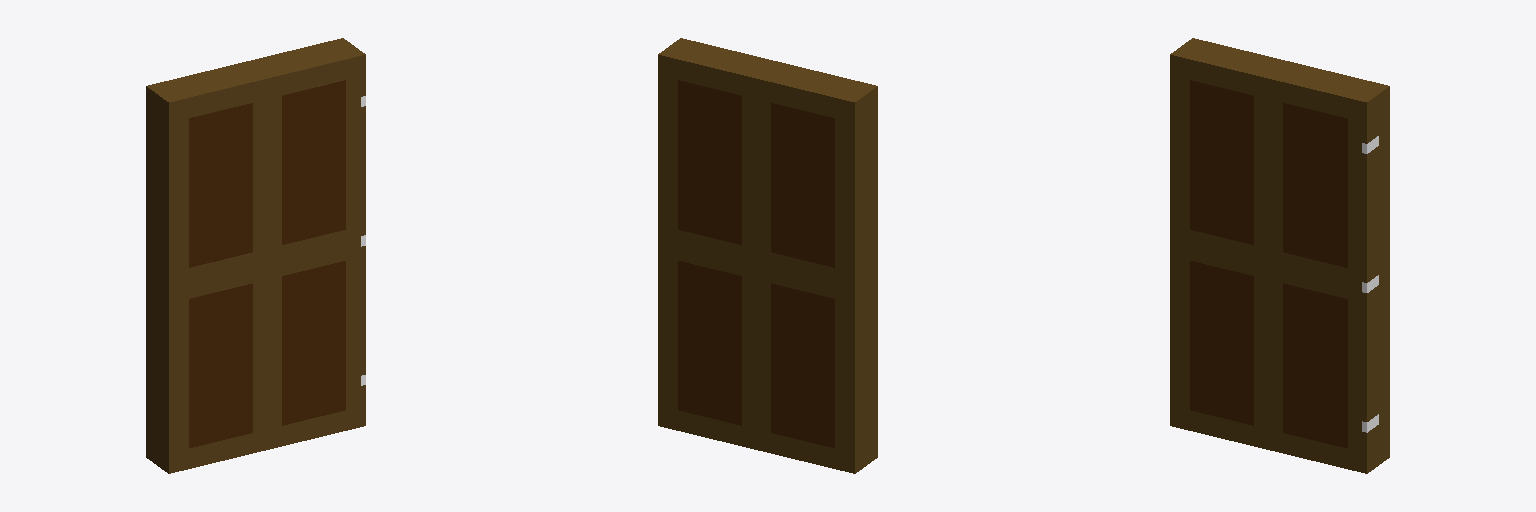
3 renders of one model, left to right at view 1: azimuth 30°, elevation 25°; view 2: azimuth 150°, elevation 25°; view 3: azimuth 330°, elevation 25°, orthographic.
Parts seen in each view (by area): view 1: Cube; view 2: Cube; view 3: Cube.
Boxes of the visible parts, x1,y1,x2,y2 form: Cube: [146, 38, 365, 473]; Cube: [658, 38, 877, 473]; Cube: [1170, 38, 1389, 473].
Bounding box in the file's own units: 1.25 × 2.25 × 0.25.
Materials: 1 (1 with a texture image).